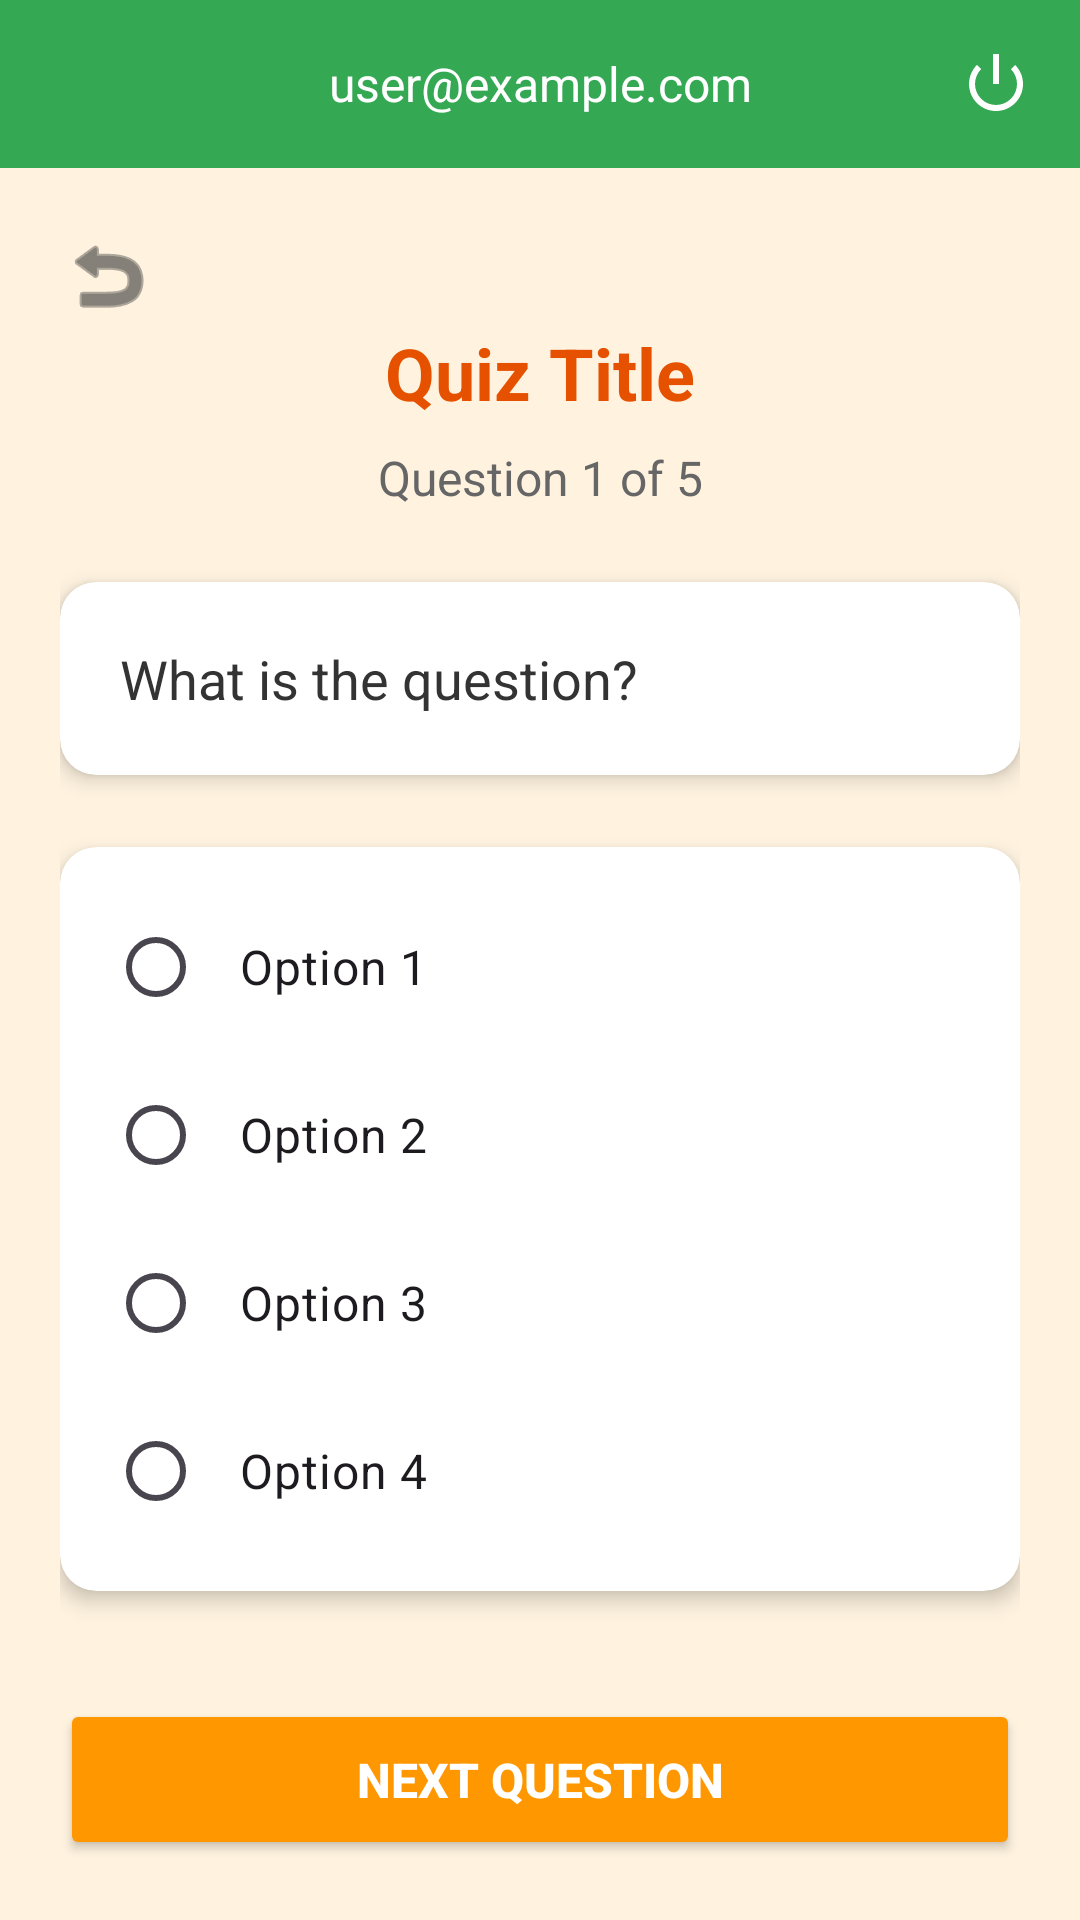

Screen size 1080 × 1920. Icon name, then its center in pixels as (x=x, y=y):
Back: (x=109, y=276)
